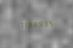eight: (32, 20, 36, 27)
five: (47, 19, 51, 27)
nine: (27, 20, 31, 28), (37, 19, 41, 27)
one: (22, 20, 26, 28)
seven: (17, 20, 21, 28)
three: (42, 19, 46, 27)
